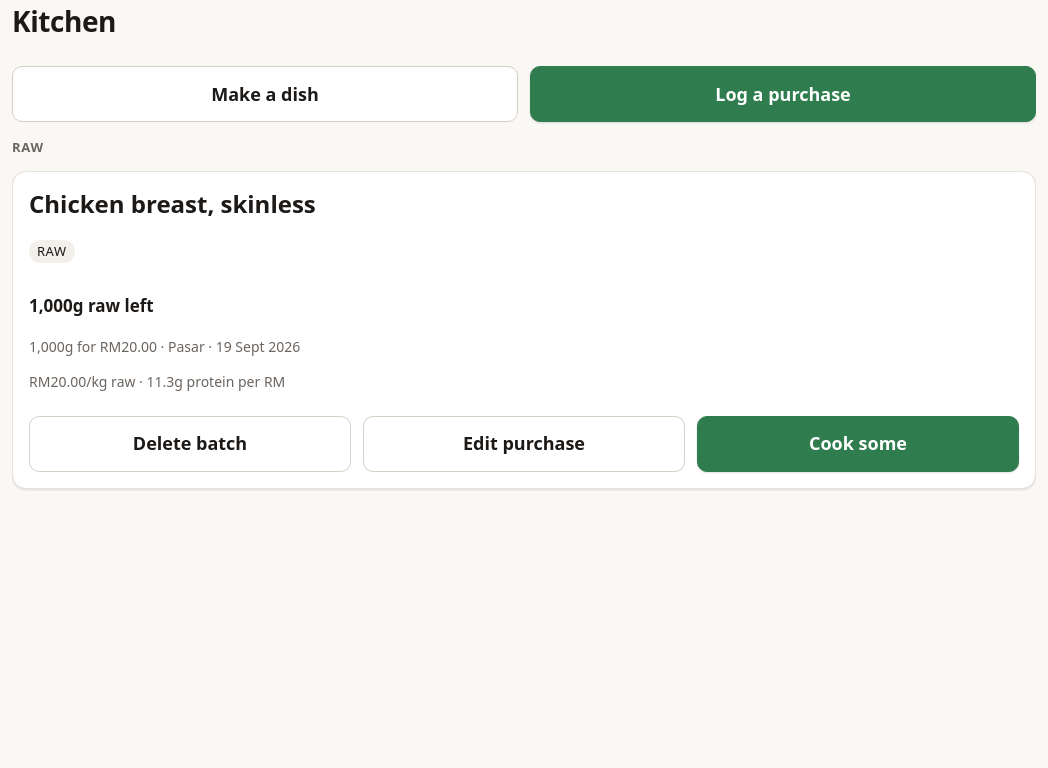
Test: KitchenScreen › preselects a newly added ingredient after returning from editing a batch
Check: the text "Raw" is shown, box [29,240,74,263]
Step 1. Click the button "Edit purchase" → (524, 444), box [363,416,685,472]
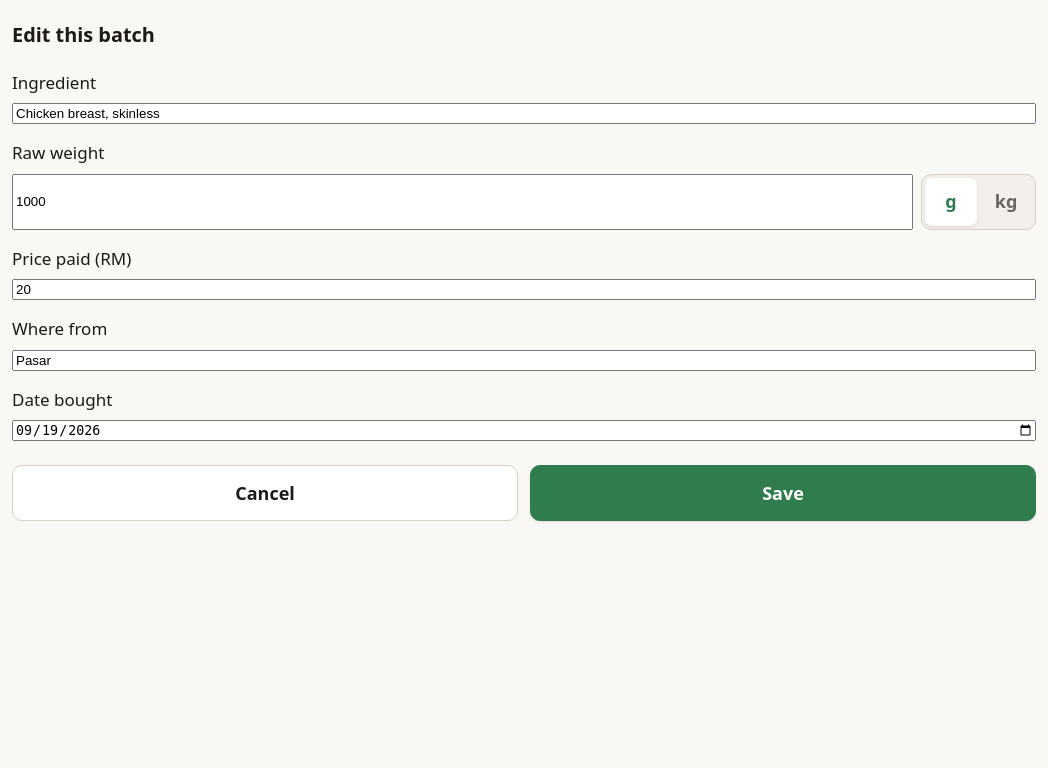
Step 2. Replace the text in the dropdown labelled "Ingredient" with "Petai" → (524, 114), box [12,103,1036,124]
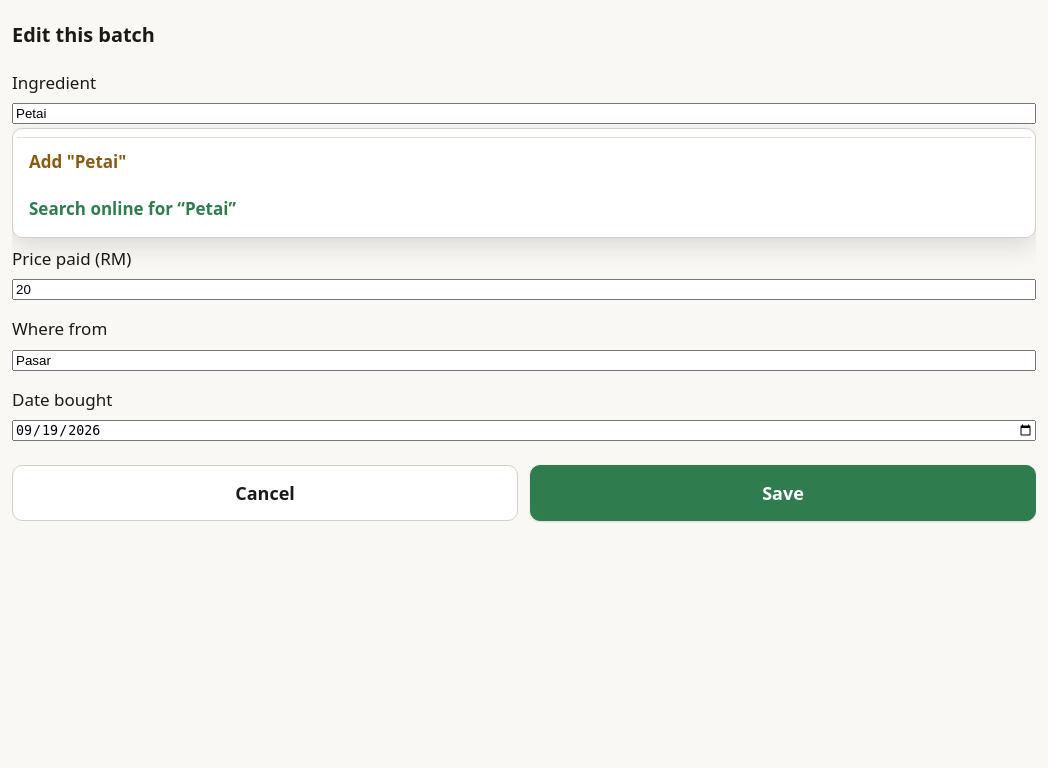
Step 3. Press the mouse on the option "Add \"Petai\"" → (78, 161), box [17,137,1031,185]
(page scrolled)
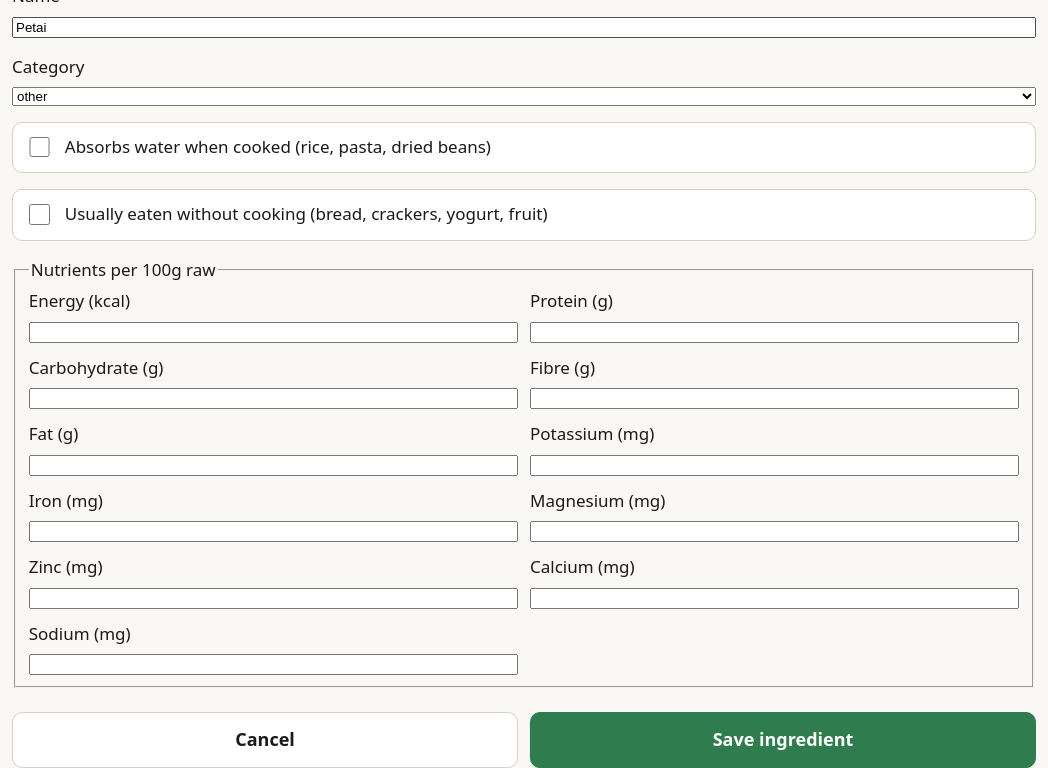
Check: the field labelled "Name" holds "Petai", box [12,16,1036,38]
Step 4. Click the button "Save ingredient" → (783, 740), box [530,712,1036,767]
(page scrolled)
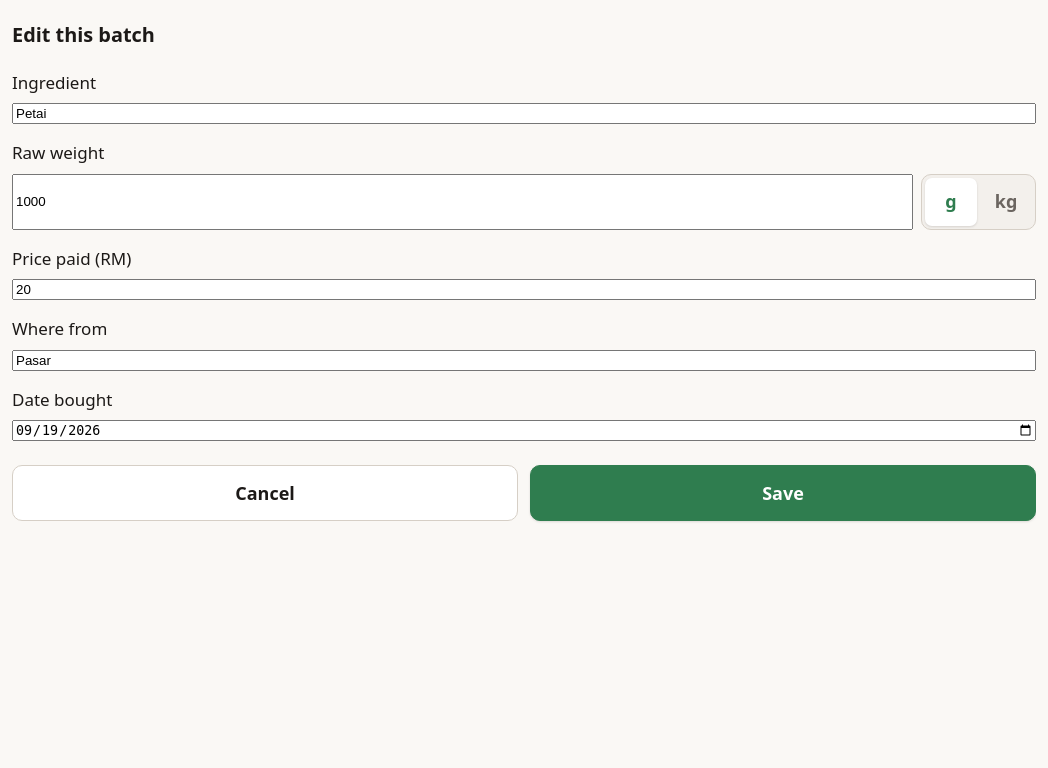
Check: the dropdown labelled "Ingredient" holds "Petai", box [12,103,1036,124]
